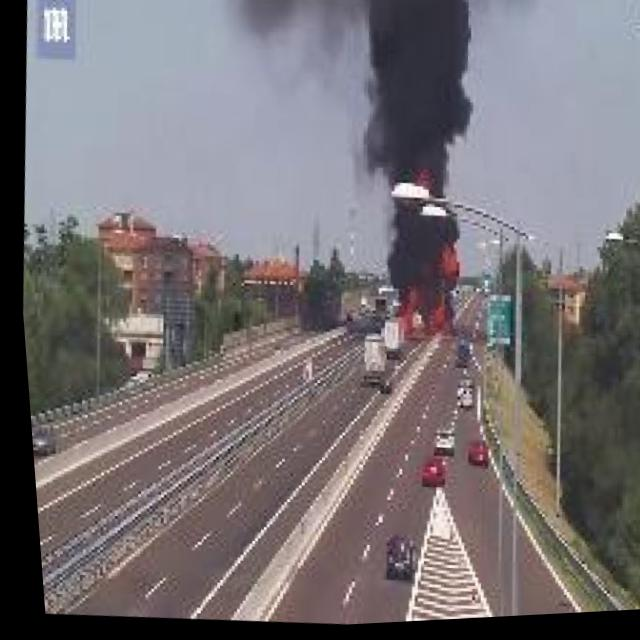fire: (383, 238, 464, 349), (412, 170, 430, 195)
